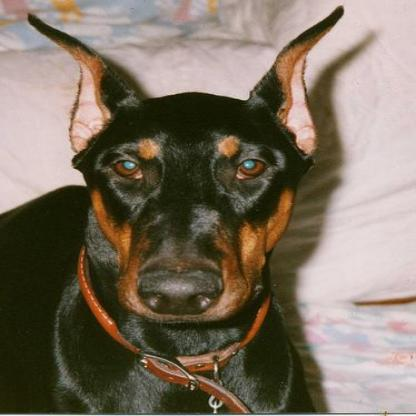Doberman: (0, 5, 344, 413)
